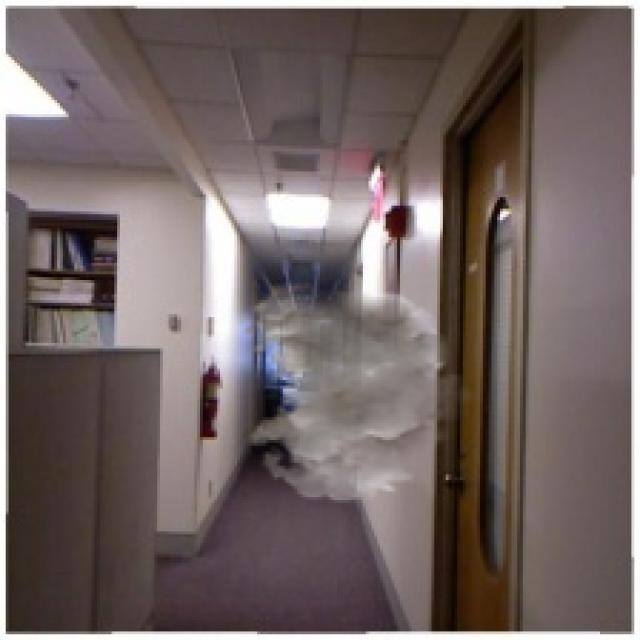smoke: (243, 280, 477, 503)
